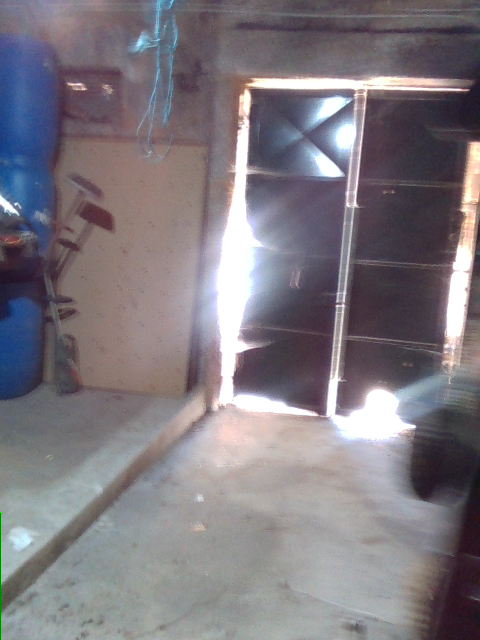closed: (216, 76, 478, 410)
